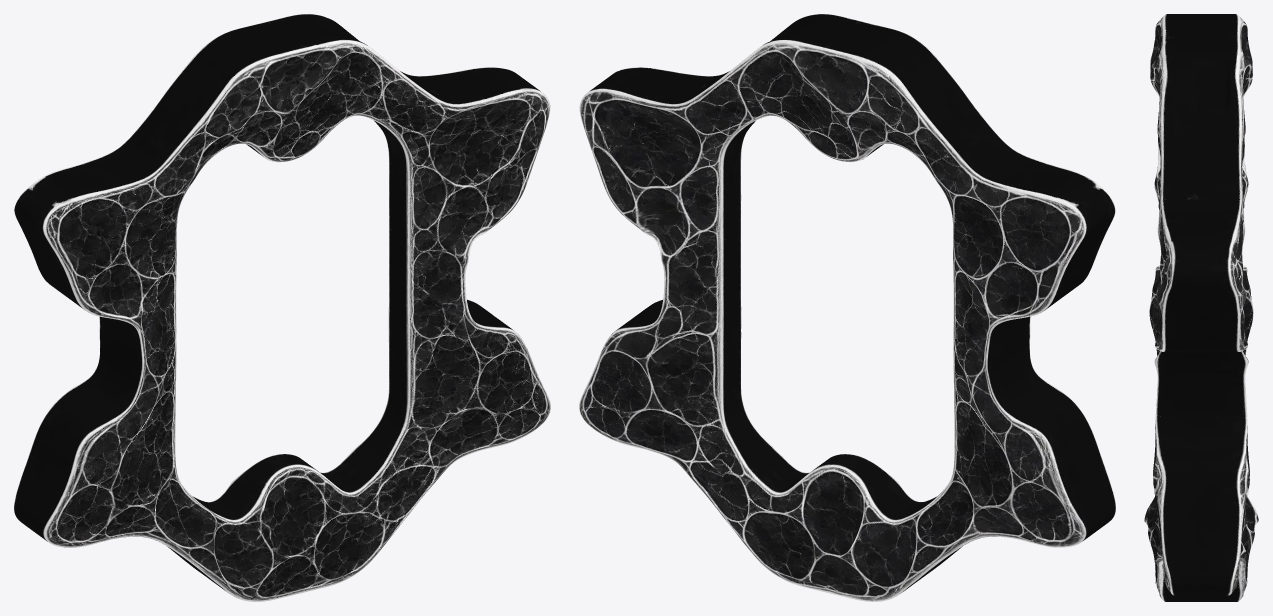
File: lace-star-ring.glb
3 renders of one model, left to right at view 1: azimuth 30°, elevation 25°; view 2: azimuth 150°, elevation 25°; view 3: azimuth 270°, elevation 25°, orthographic.
Parts seen in each view (by area): view 1: mesh_node; view 2: mesh_node; view 3: mesh_node.
Part boxes in pixels (box(x1,y1,x2,y2)): mesh_node: box(14, 14, 550, 601); mesh_node: box(579, 14, 1115, 601); mesh_node: box(1144, 14, 1258, 601).
Bounding box in the file's own units: 1.85 × 1.9 × 0.3609.
Materials: 1 (1 with a texture image).
